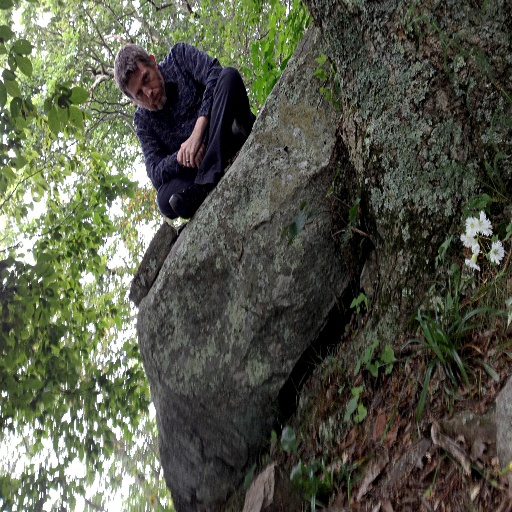hand: (168, 100, 208, 165), (194, 142, 204, 165)
